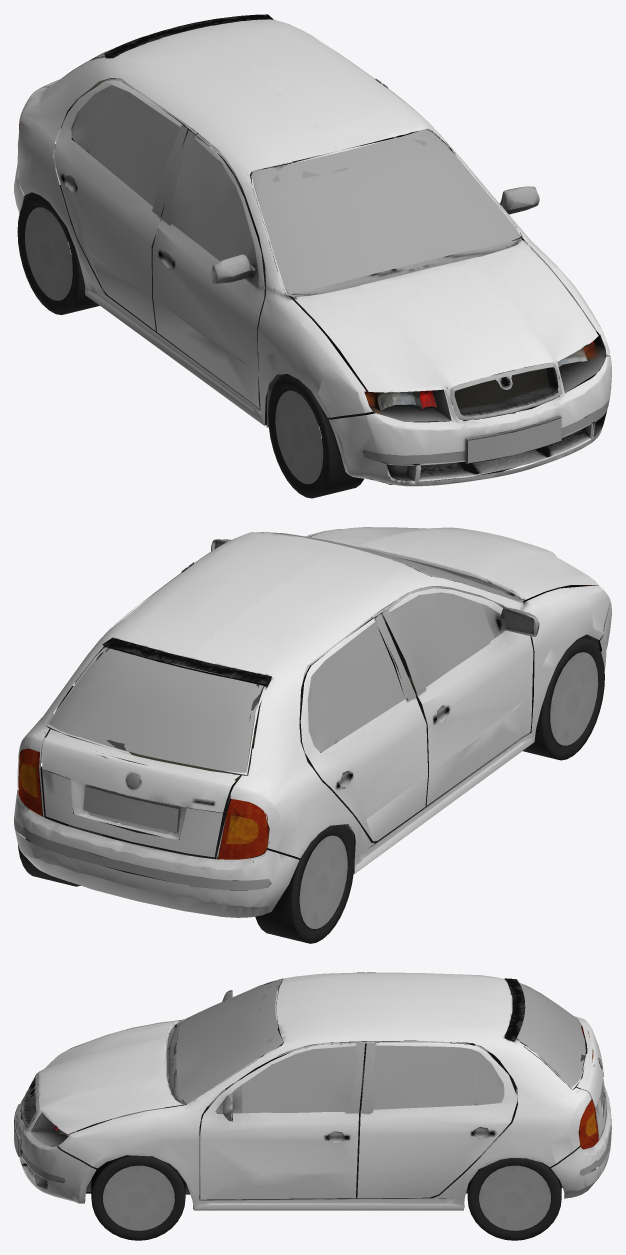
Rendered from TRAFFIC_012_LOD2.fbx.
3 renders of one model, top to bottom at view 1: azimuth 30°, elevation 25°; view 2: azimuth 150°, elevation 25°; view 3: azimuth 270°, elevation 25°, orthographic. The views are drawn at different scales.
Visible parts, largest first — view 1: TRAFFIC_012_LOD2; view 2: TRAFFIC_012_LOD2; view 3: TRAFFIC_012_LOD2.
Boxes of the visible parts, x1,y1,x2,y2 form: TRAFFIC_012_LOD2: (14,14,611,498); TRAFFIC_012_LOD2: (14,527,611,943); TRAFFIC_012_LOD2: (14,972,611,1240).
Bounding box in the file's own units: 2155 × 4562 × 1627.
